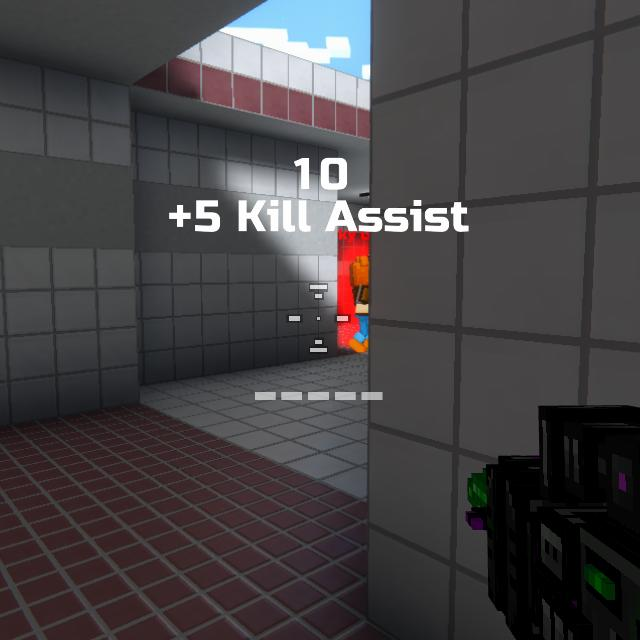Enemy: (348, 255, 369, 351)
